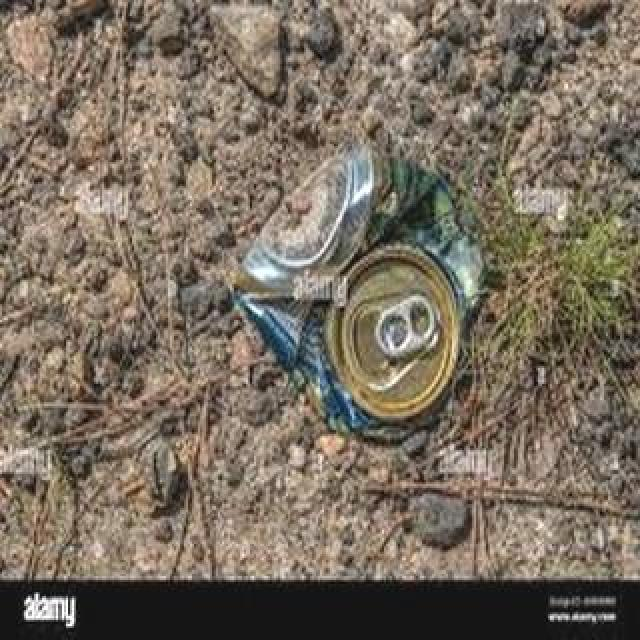Can: (232, 142, 492, 450)
